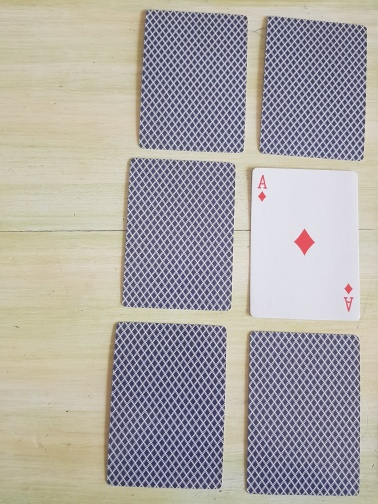ace: (248, 167, 361, 321)
